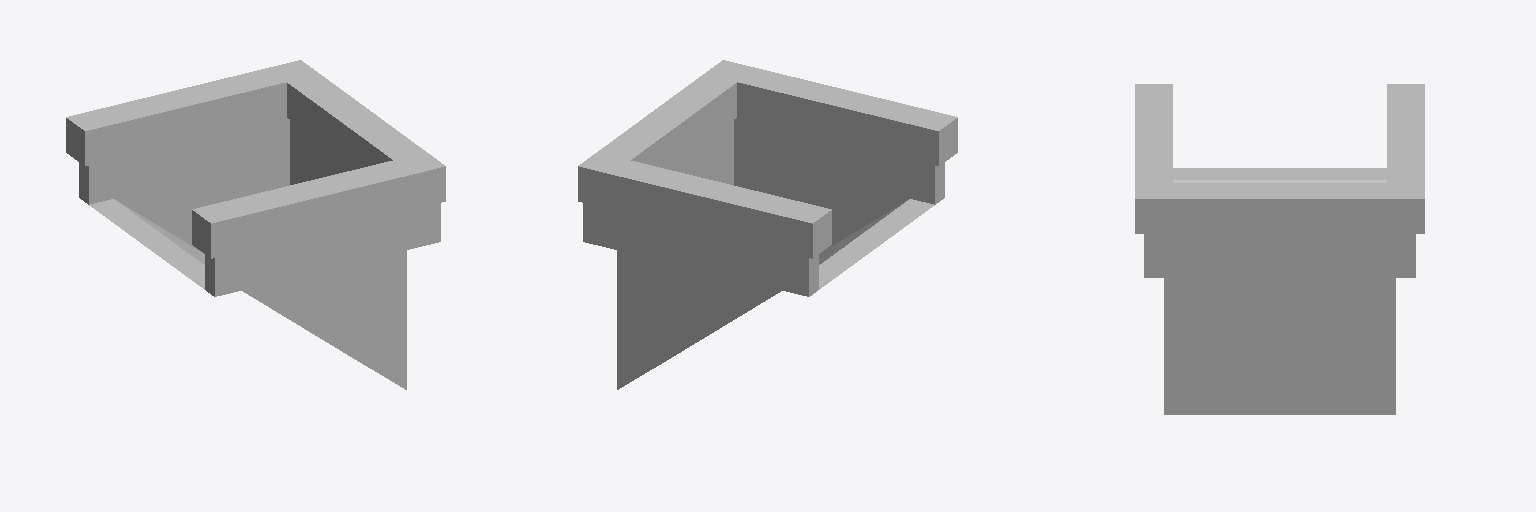
File: Down-Right Stairs.obj
The picture shows the model from 3 angles: view 1: azimuth 30°, elevation 25°; view 2: azimuth 150°, elevation 25°; view 3: azimuth 270°, elevation 25°; orthographic projection.
Parts seen in each view (by area): view 1: polygon0, polygon1; view 2: polygon0, polygon1; view 3: polygon0, polygon1.
Boxes of the visible parts, box(x1,y1,x2,y2) form: polygon0: box(79, 117, 440, 389); polygon1: box(66, 60, 445, 258); polygon0: box(583, 117, 944, 389); polygon1: box(578, 60, 957, 258); polygon0: box(1144, 168, 1415, 414); polygon1: box(1135, 84, 1424, 233).
Size of the model in its own units: 28 by 26 by 30.